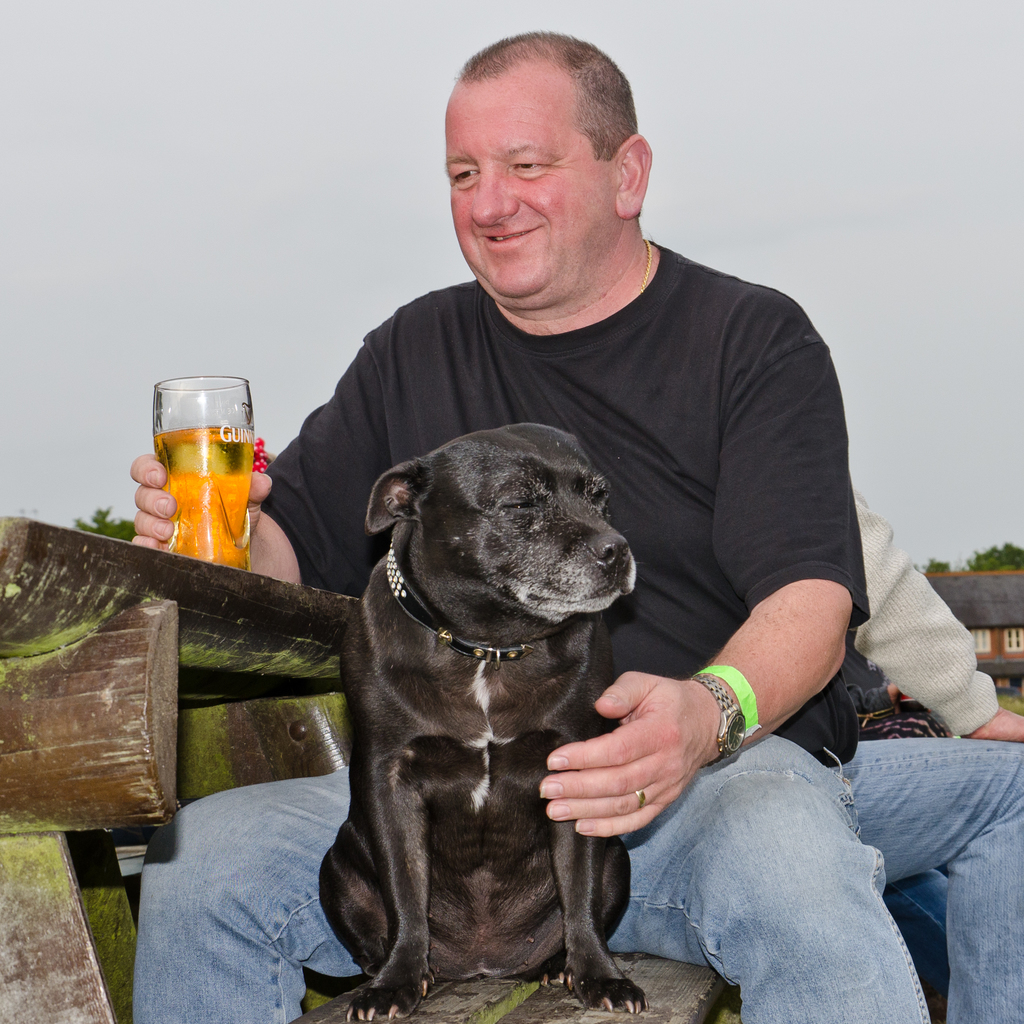Beer: (152, 375, 255, 572)
